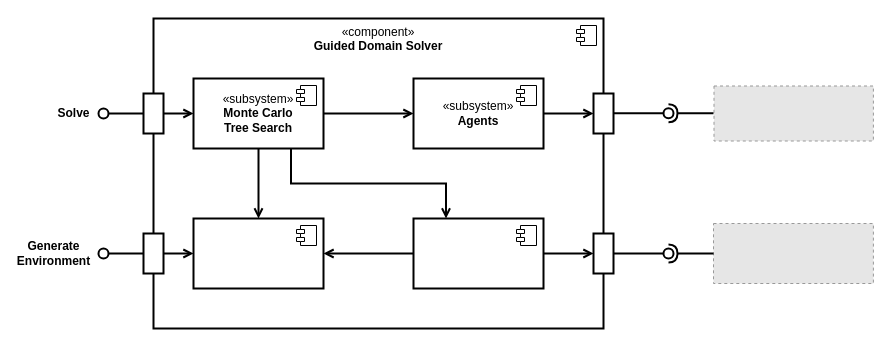
Image size: 891x346. Some labels were removed from this diagram. Grey dashed boxes stand in for pictures. The centre of each missing label's shape, as x and y in pixels:
«subsystem» Environment: the point at 258,253
«subsystem» Knowledge Graph: the point at 478,253
